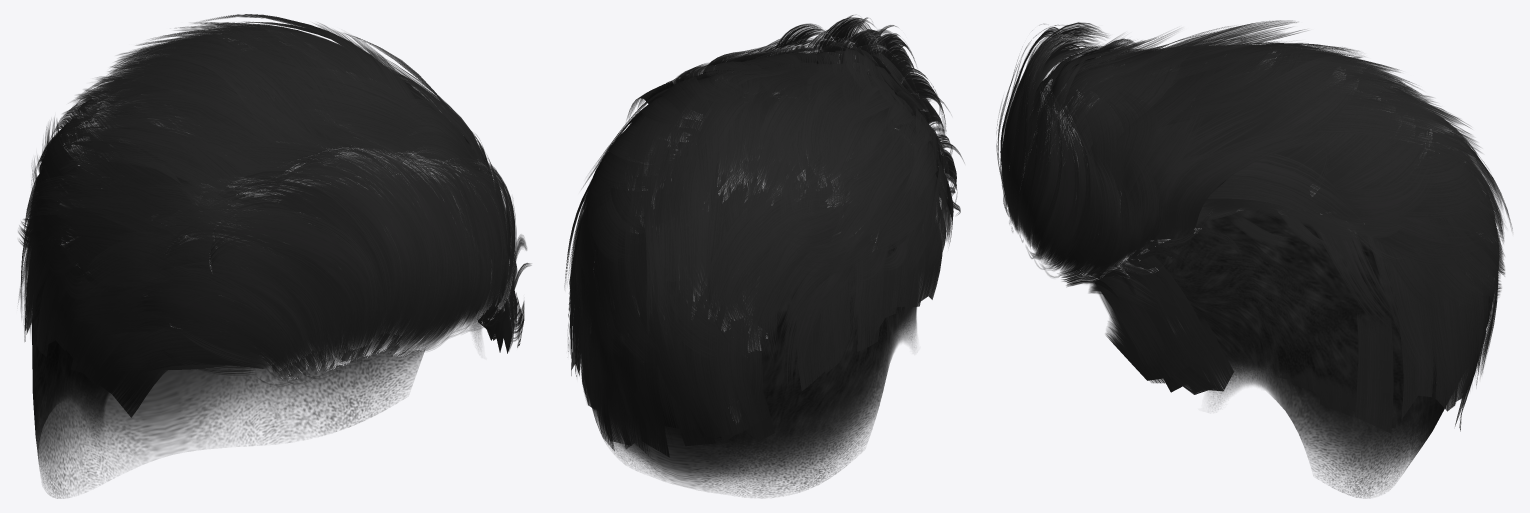
File: oval_straight_02 TaperFade.glb
The picture shows the model from 3 angles, left to right: view 1: azimuth 30°, elevation 25°; view 2: azimuth 150°, elevation 25°; view 3: azimuth 270°, elevation 25°; orthographic projection. The views are drawn at different scales.
Visible parts, largest first — view 1: Quiff.004, taper base.001; view 2: Quiff.004, taper base.001; view 3: Quiff.004, taper base.001.
Boxes of the visible parts, x1,y1,x2,y2 form: Quiff.004: (18,14,531,417); taper base.001: (32,266,481,498); Quiff.004: (564,15,964,457); taper base.001: (591,242,916,497); Quiff.004: (996,20,1512,433); taper base.001: (1126,210,1446,497).
Size of the model in its own units: 0.1978 by 0.2176 by 0.2487.
Materials: 2 (2 with a texture image).
